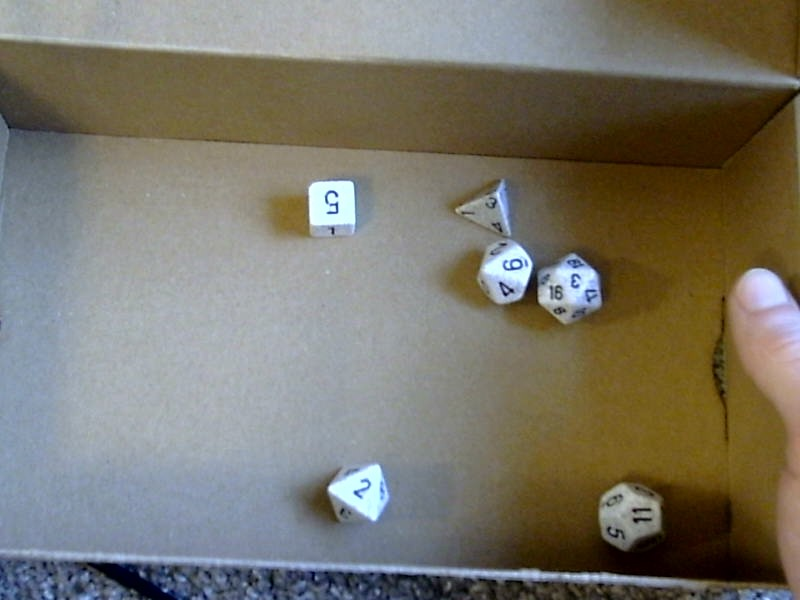d10 6: (471, 238, 533, 309)
d12 11: (589, 475, 679, 558)
d20 3: (537, 245, 608, 333)
d4 3: (449, 175, 516, 237)
d6 5: (301, 175, 362, 241)
d8 2: (323, 457, 391, 534)
